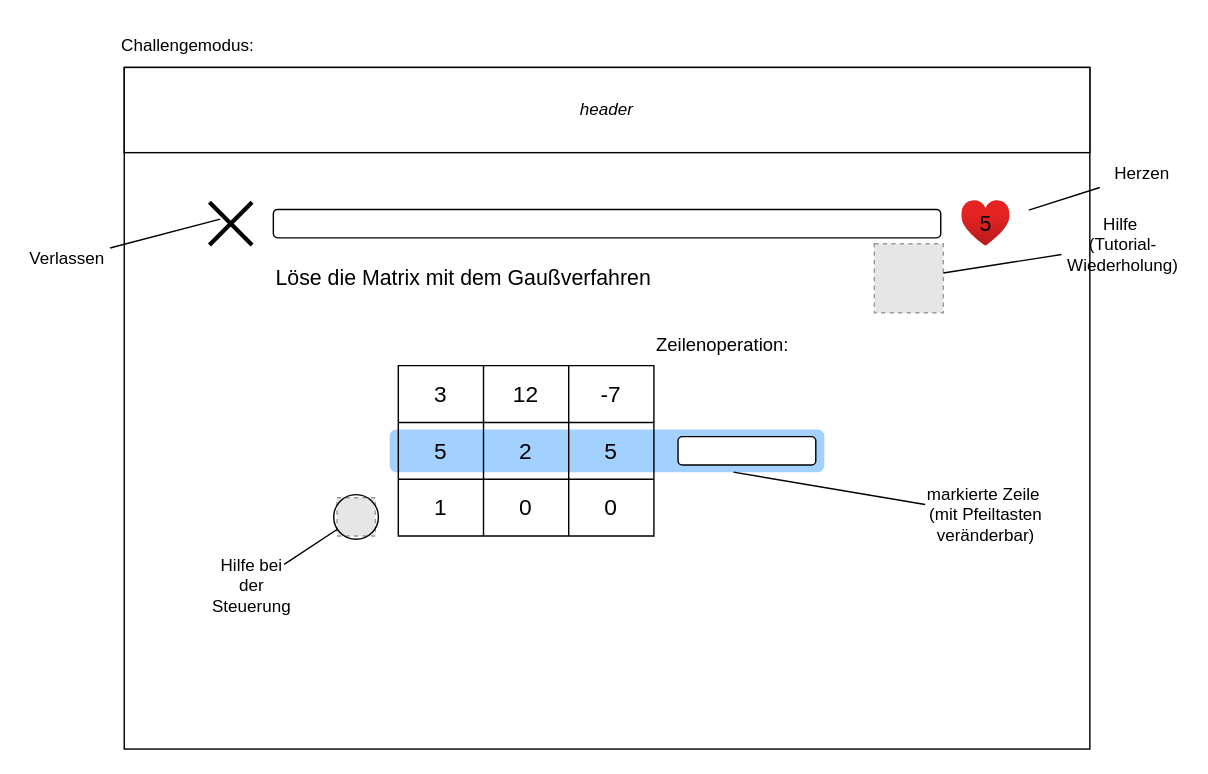
The diagram is 1208 pixels wide and 774 high, and some of its shapes have lost their labels. Grey dashed boxes stand in for pictures. Here are the shapes that lost their labels. From the top down, the centre of each, then its label:
At point (606, 223): "progress bar".
At point (746, 450): "Benutzereingabe".
